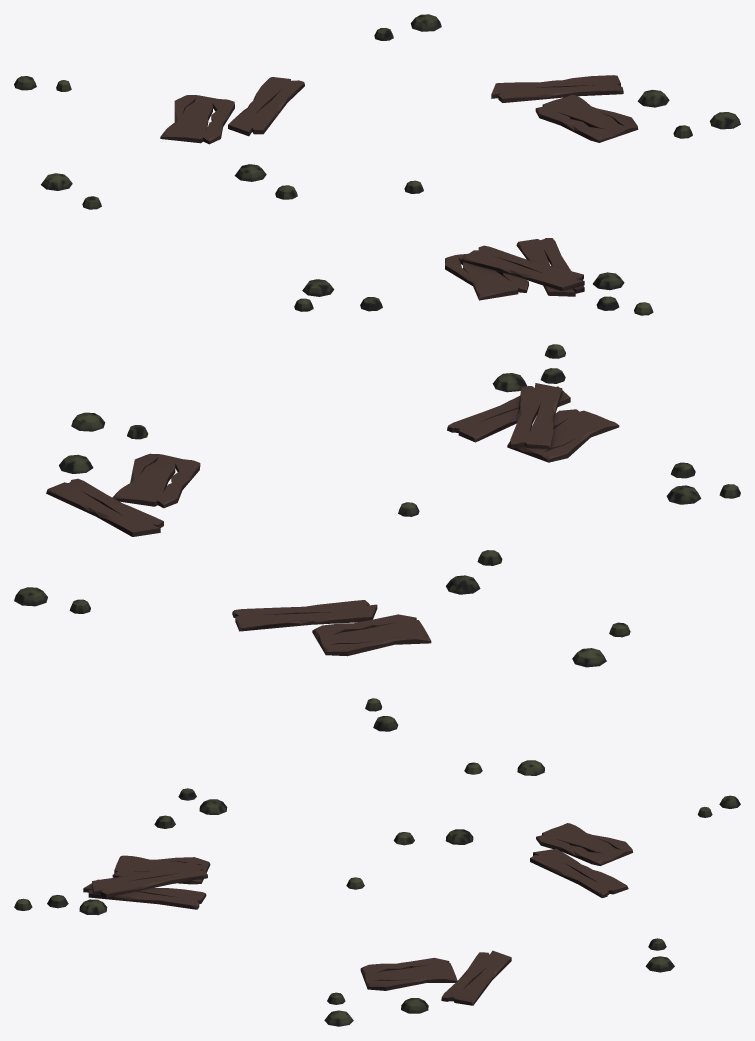
File: Wood_01.FBX
3 views of the same model, one above another, from view 1: azimuth 30°, elevation 25°; view 2: azimuth 150°, elevation 25°; view 3: azimuth 270°, elevation 25° (orthographic). The views are drawn at different scales.
Visible parts, largest first — view 1: Wood_01; view 2: Wood_01; view 3: Wood_01.
Boxes of the visible parts, bbox=[...] form: Wood_01: bbox=[14, 14, 740, 315]; Wood_01: bbox=[14, 344, 740, 731]; Wood_01: bbox=[14, 760, 740, 1026].
Bounding box in the file's own units: 14.46 × 0.3128 × 16.86.
